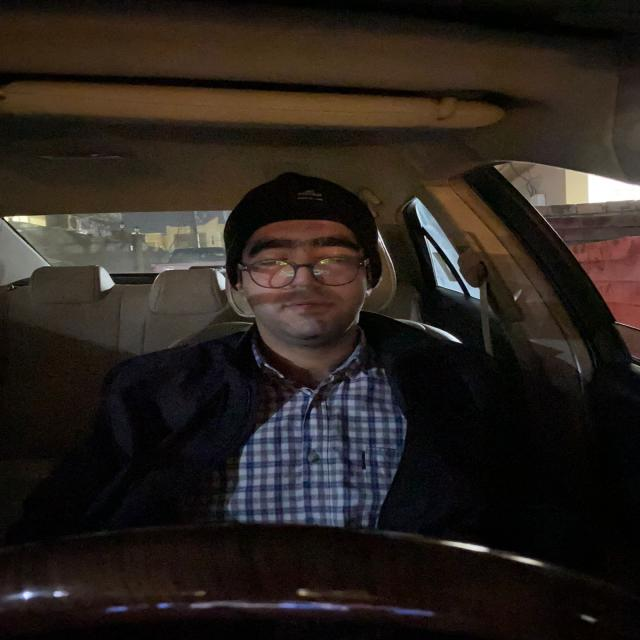drowsy: (215, 165, 405, 352)
